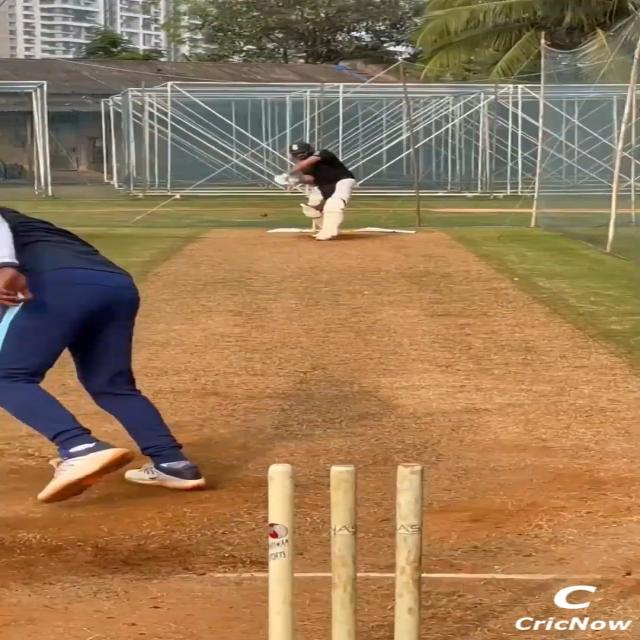ball: (260, 213, 268, 217)
stump: (266, 462, 422, 640)
